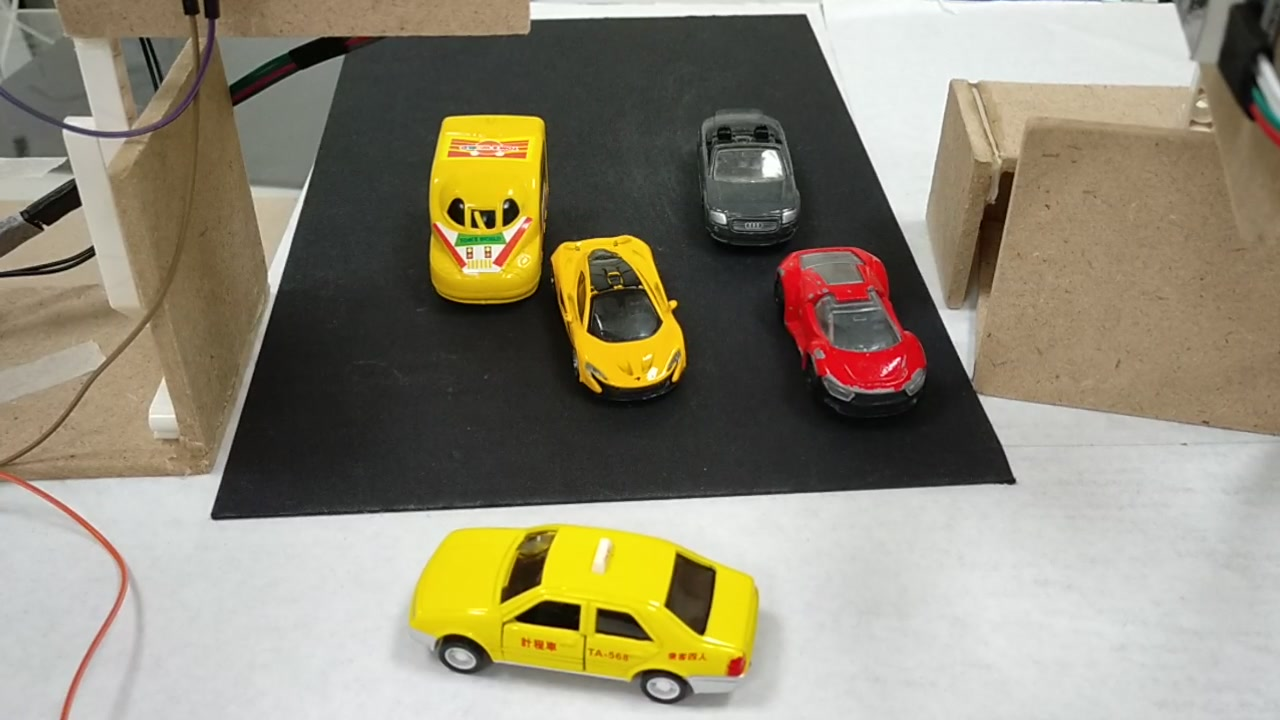car: (420, 528, 758, 702), (775, 251, 932, 415), (554, 242, 689, 400), (694, 112, 807, 247)
